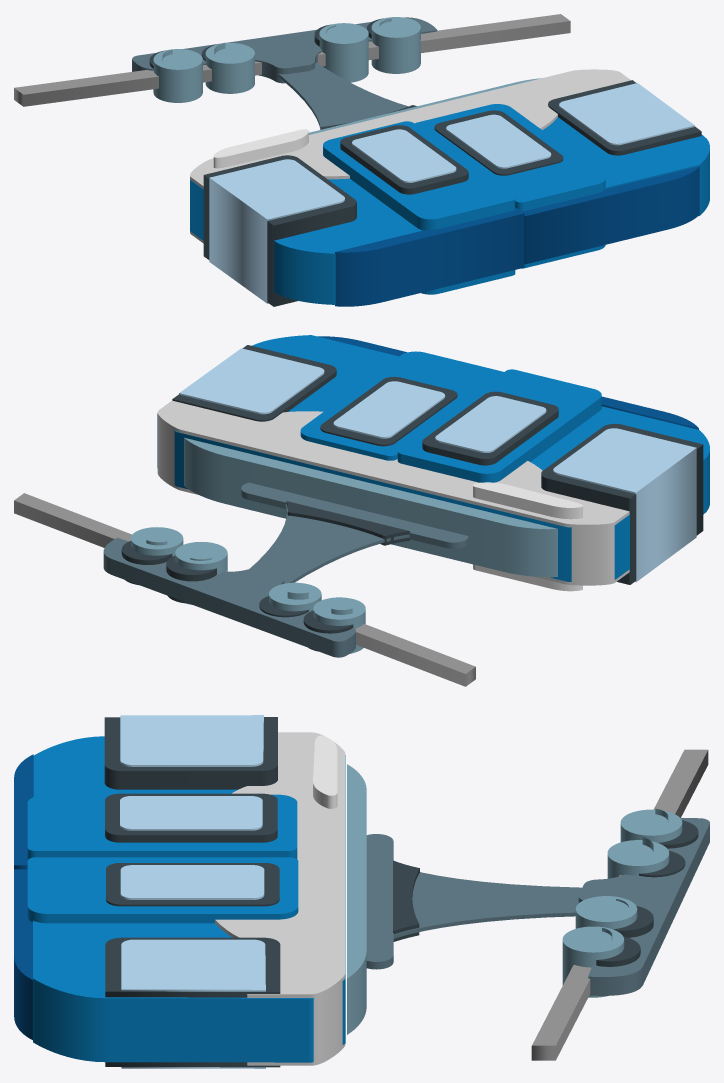
The model's file is emoji_u1f6a0.glb.
3 renders of one model, top to bottom at view 1: azimuth 30°, elevation 25°; view 2: azimuth 150°, elevation 25°; view 3: azimuth 270°, elevation 25°, orthographic. The views are drawn at different scales.
Parts seen in each view (by area): view 1: emoji_u1f6a0; view 2: emoji_u1f6a0; view 3: emoji_u1f6a0.
Boxes of the visible parts, x1,y1,x2,y2 form: emoji_u1f6a0: (14, 14, 709, 306); emoji_u1f6a0: (14, 335, 709, 686); emoji_u1f6a0: (14, 715, 709, 1068).
Size of the model in its own units: 0.0338 by 0.006 by 0.0335.
